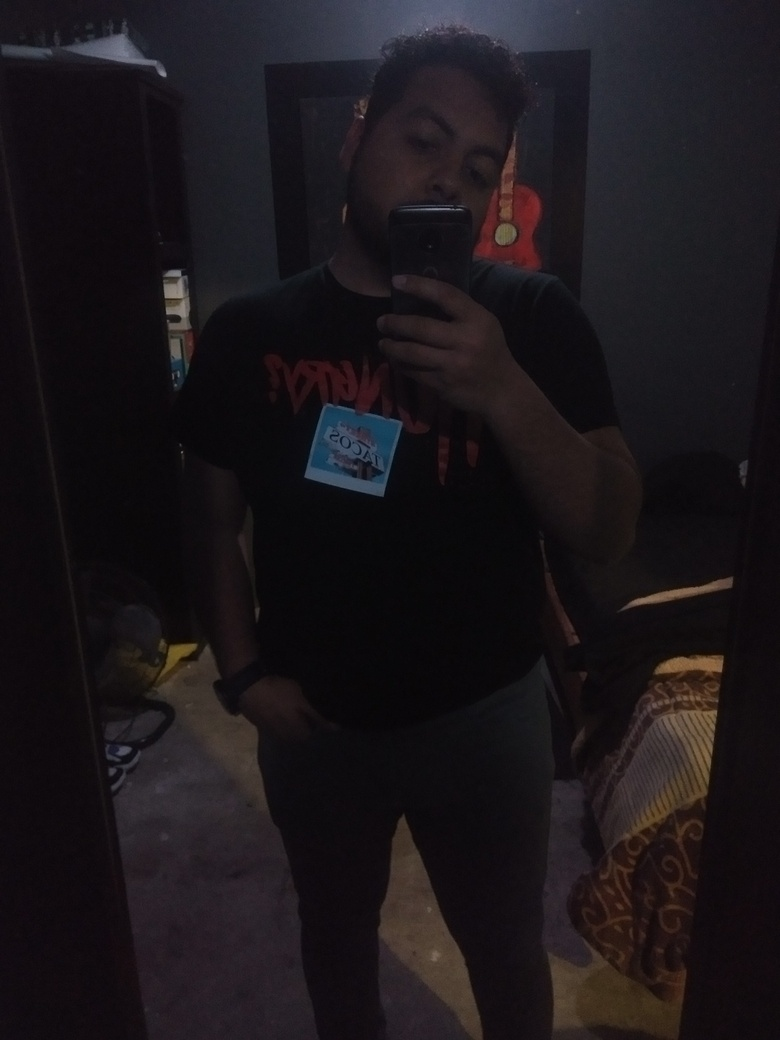Yoshi: (304, 6, 573, 287)
